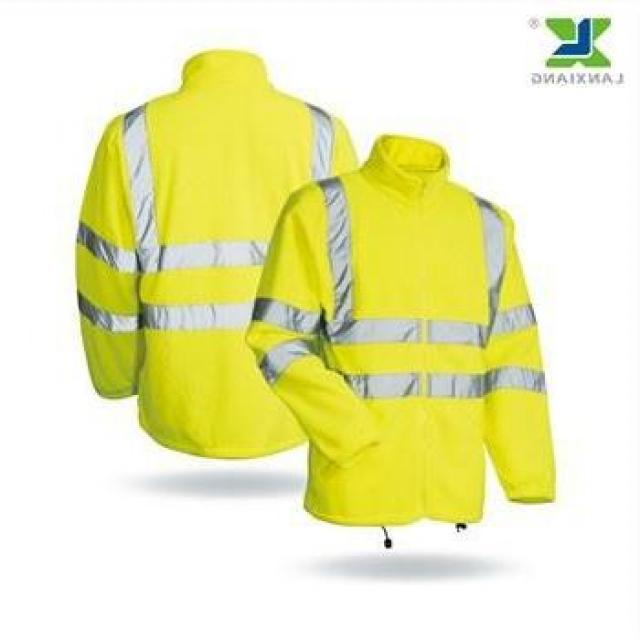Reflective-Jacket: (243, 133, 569, 534), (62, 59, 366, 454)
